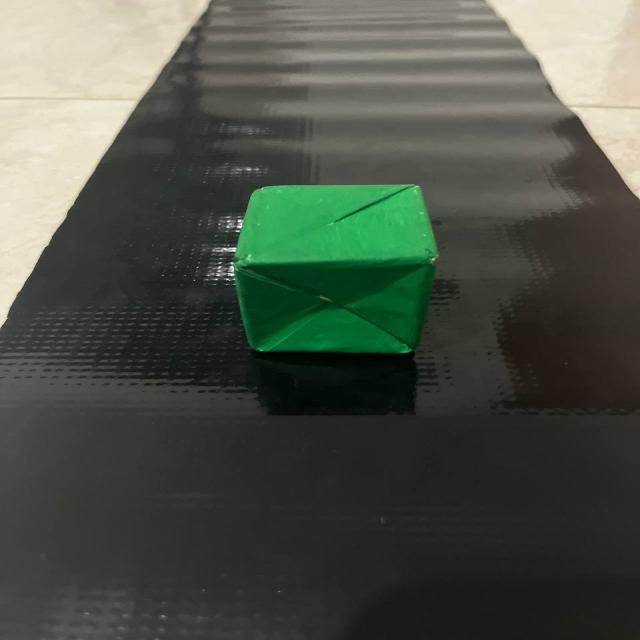Verde: (215, 173, 458, 366)
